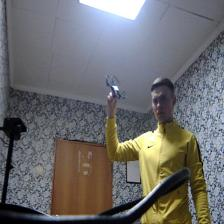drone: (102, 68, 132, 104)
